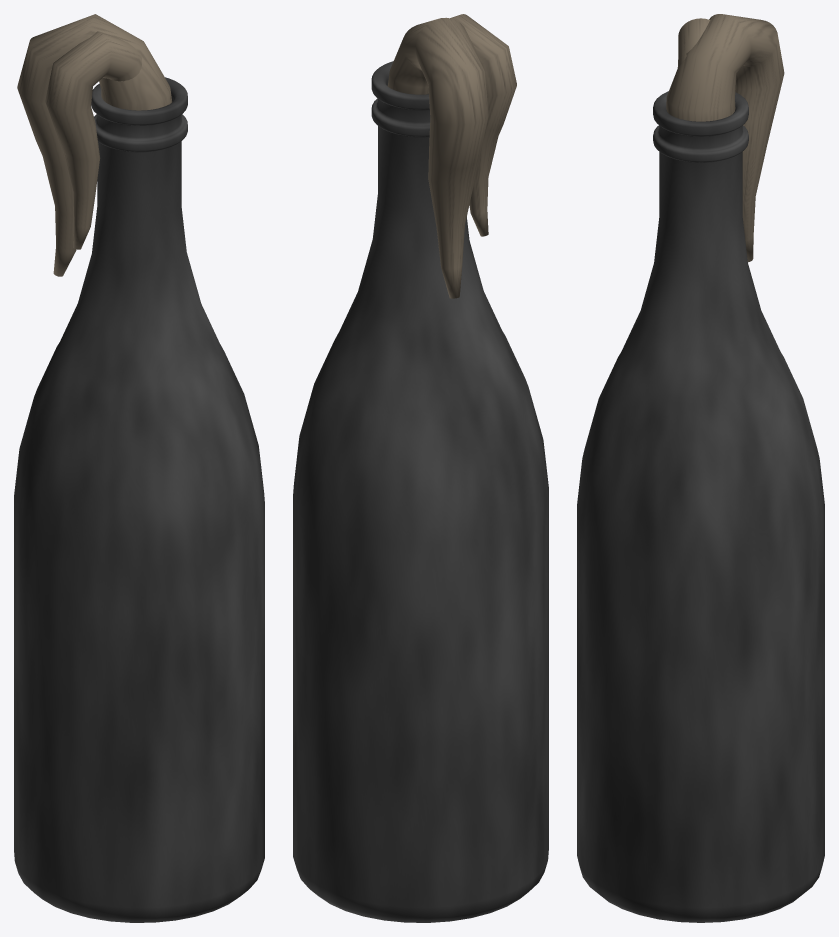
The model's file is molotov.fbx.
3 views of the same model, side by side, from view 1: azimuth 30°, elevation 25°; view 2: azimuth 150°, elevation 25°; view 3: azimuth 270°, elevation 25° (orthographic). The views are drawn at different scales.
Visible parts, largest first — view 1: Cylinder.006; view 2: Cylinder.006; view 3: Cylinder.006.
Boxes of the visible parts, x1=… form: Cylinder.006: x1=14, y1=14, x2=264, y2=922; Cylinder.006: x1=293, y1=14, x2=548, y2=922; Cylinder.006: x1=577, y1=14, x2=824, y2=922.
Bounding box in the file's own units: 20 × 75.54 × 20.
Materials: 1 (1 with a texture image).
